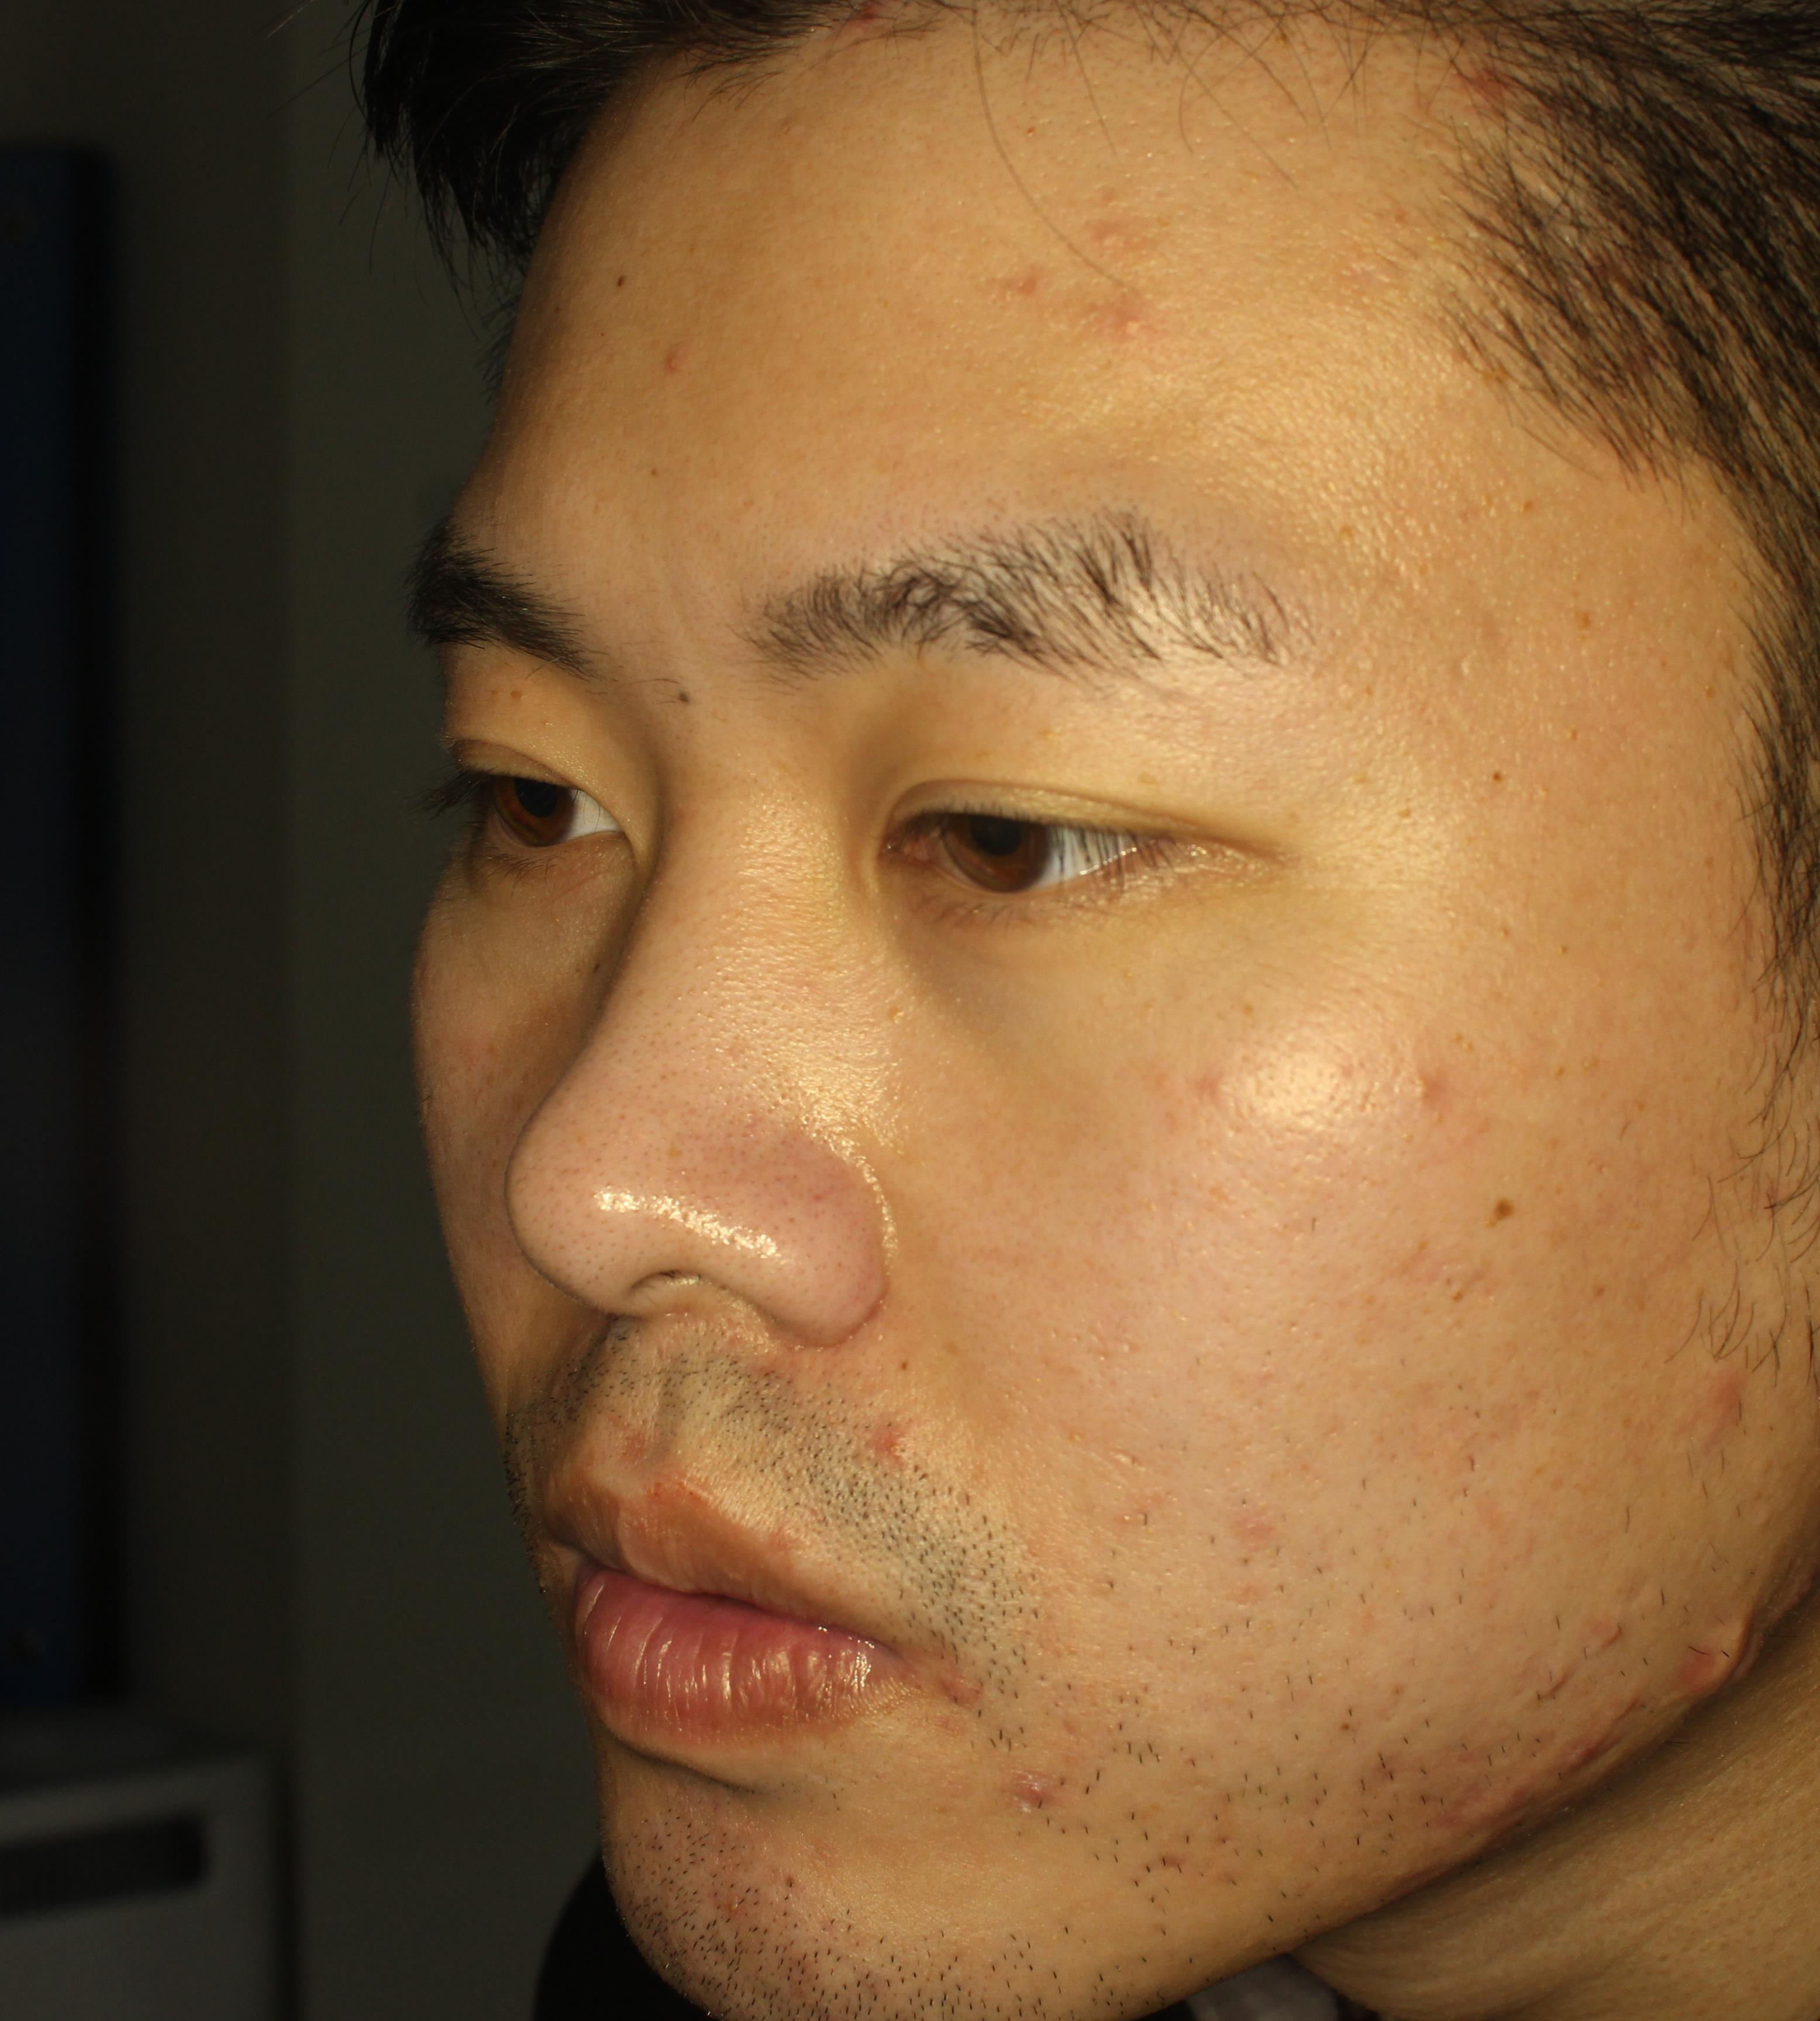fore: (1435, 1754, 1556, 1863), (1010, 1728, 1103, 1845), (852, 1410, 973, 1487), (1390, 1034, 1493, 1124), (1565, 1661, 1650, 1759), (1704, 1343, 1785, 1428), (1068, 277, 1152, 356)
